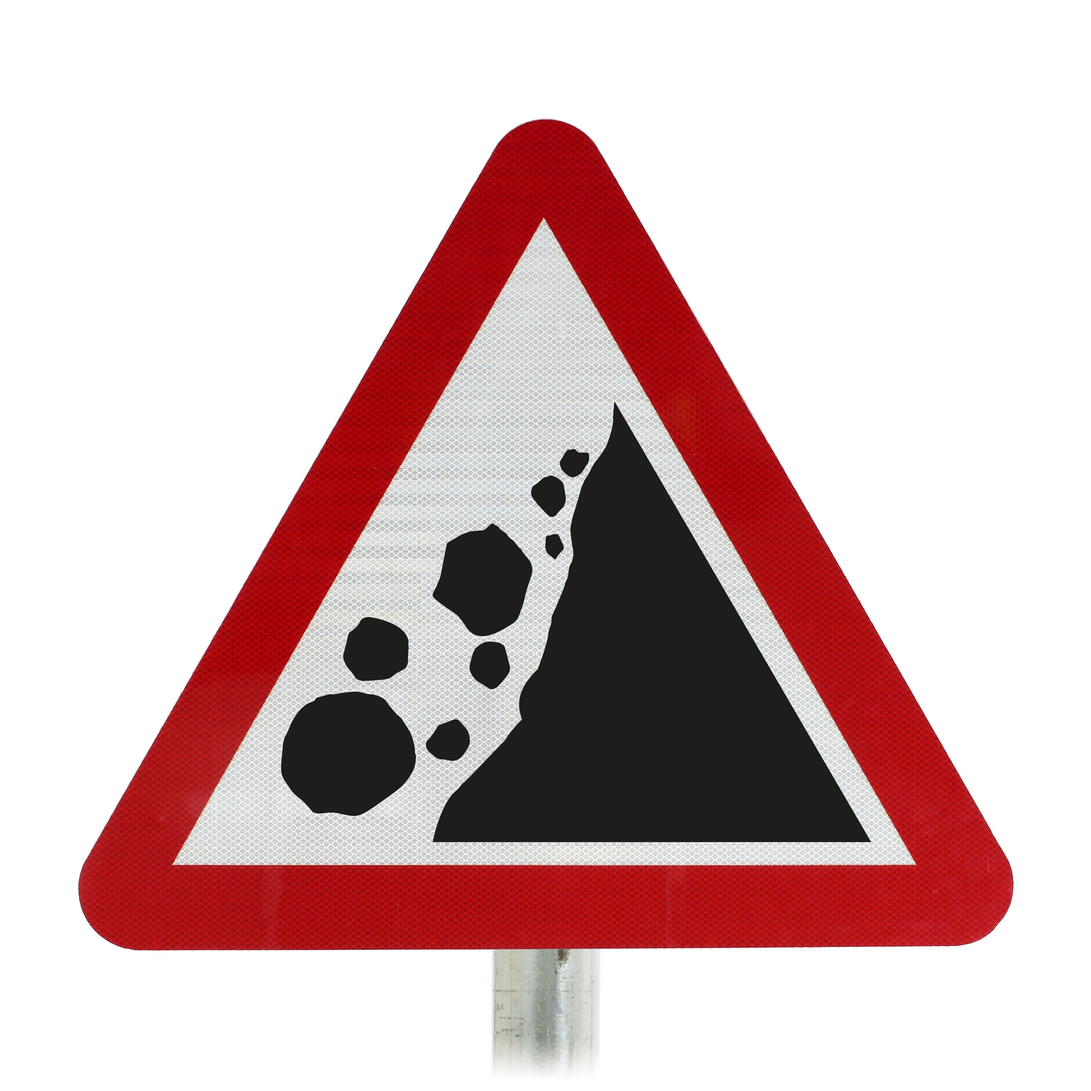FallenSign: (69, 119, 1028, 955)
